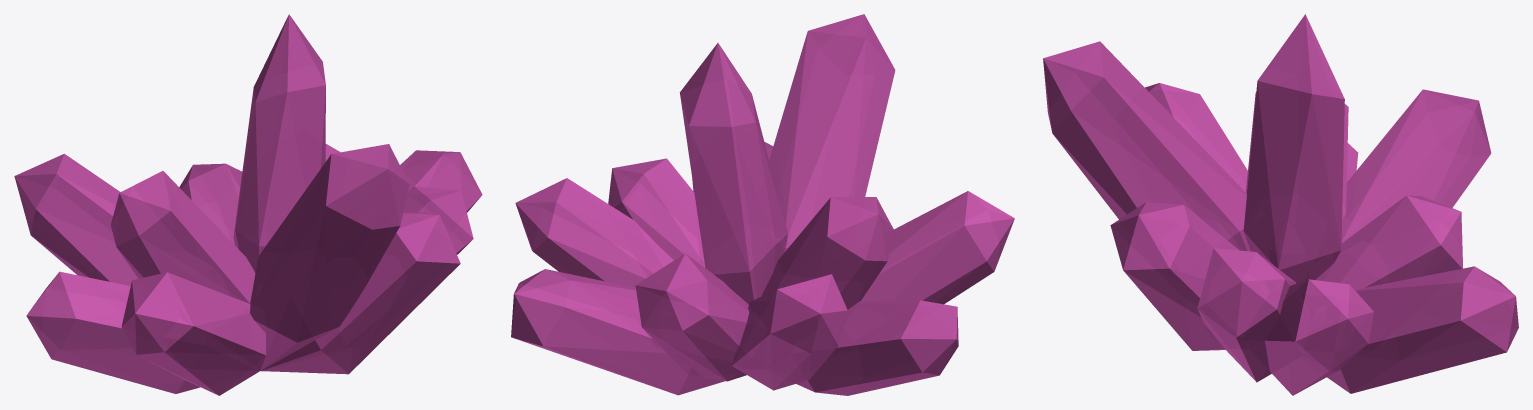
Rendered from pink_crystal.fbx.
3 renders of one model, left to right at view 1: azimuth 30°, elevation 25°; view 2: azimuth 150°, elevation 25°; view 3: azimuth 270°, elevation 25°, orthographic. The views are drawn at different scales.
Parts seen in each view (by area): view 1: pCylinder58; view 2: pCylinder58; view 3: pCylinder58.
Part boxes in pixels (<box>): pCylinder58: <box>14,14,482,395</box>; pCylinder58: <box>511,14,1014,395</box>; pCylinder58: <box>1043,14,1518,395</box>.
Bounding box in the file's own units: 5.93 × 4.35 × 5.25.
